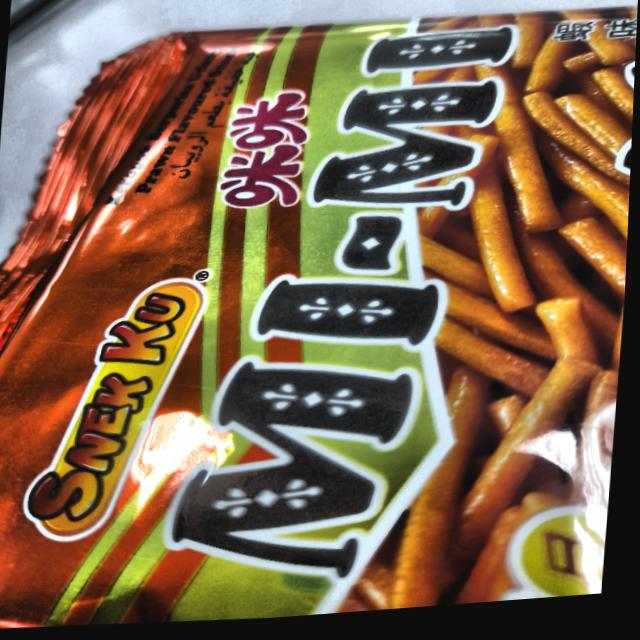Plastic: (6, 3, 639, 638)
